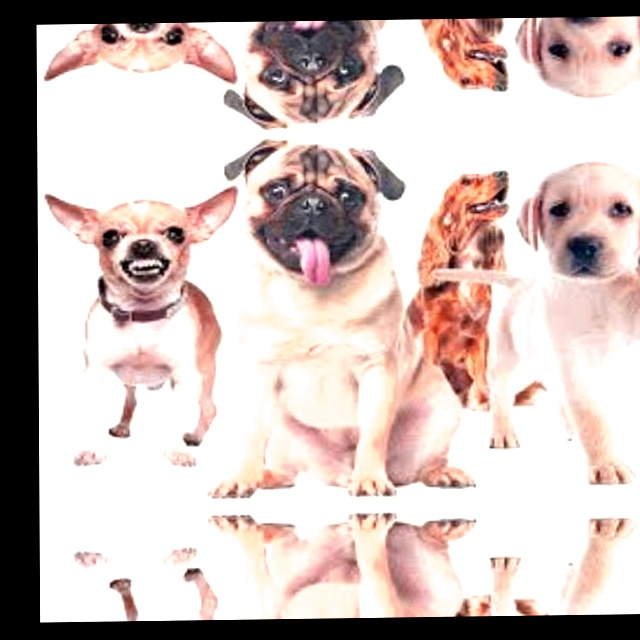dog: (211, 136, 431, 487), (38, 171, 242, 471), (481, 147, 640, 472), (211, 19, 429, 130), (214, 524, 432, 620), (38, 22, 240, 99), (41, 545, 243, 622), (480, 16, 640, 111), (483, 532, 640, 616)
